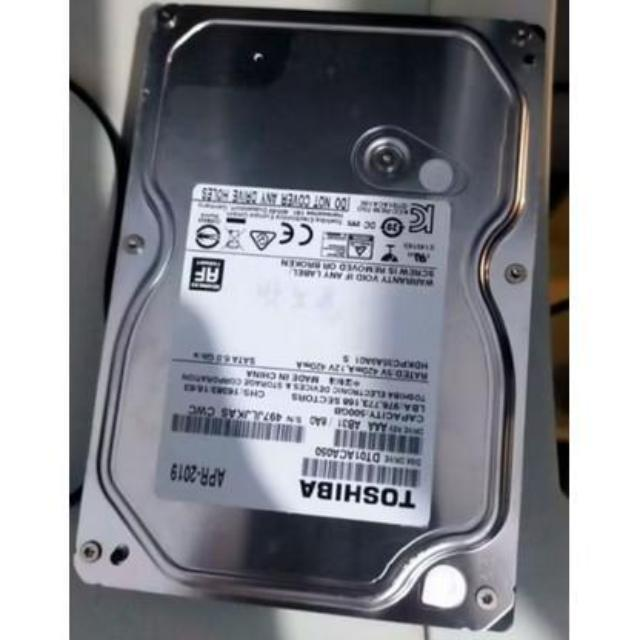DISK: (76, 0, 528, 632)
